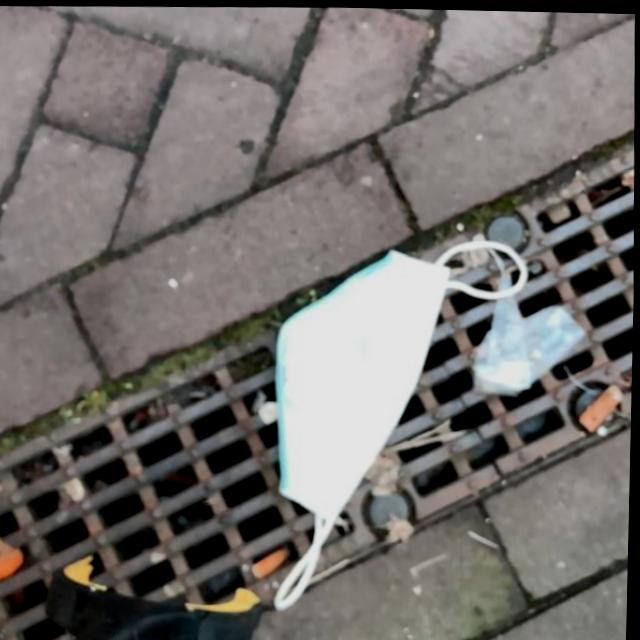Mask: (263, 230, 538, 615)
